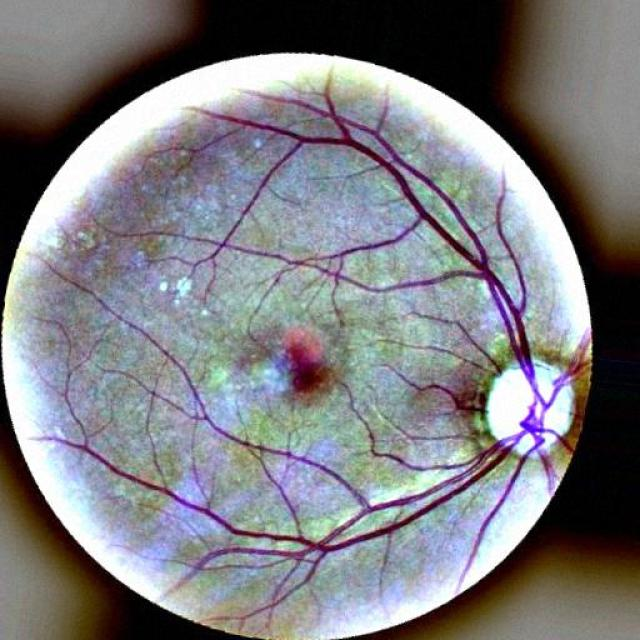Macula: (275, 343, 336, 400)
Nerves: (294, 131, 535, 380), (199, 428, 531, 554), (385, 359, 490, 417)
Optic Disk: (483, 356, 574, 460)
